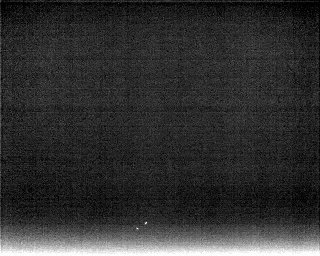BIRD: (135, 225, 140, 232)
